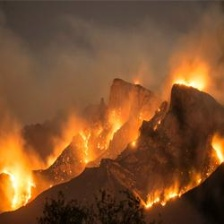fire: (78, 66, 224, 209), (1, 137, 42, 211)
